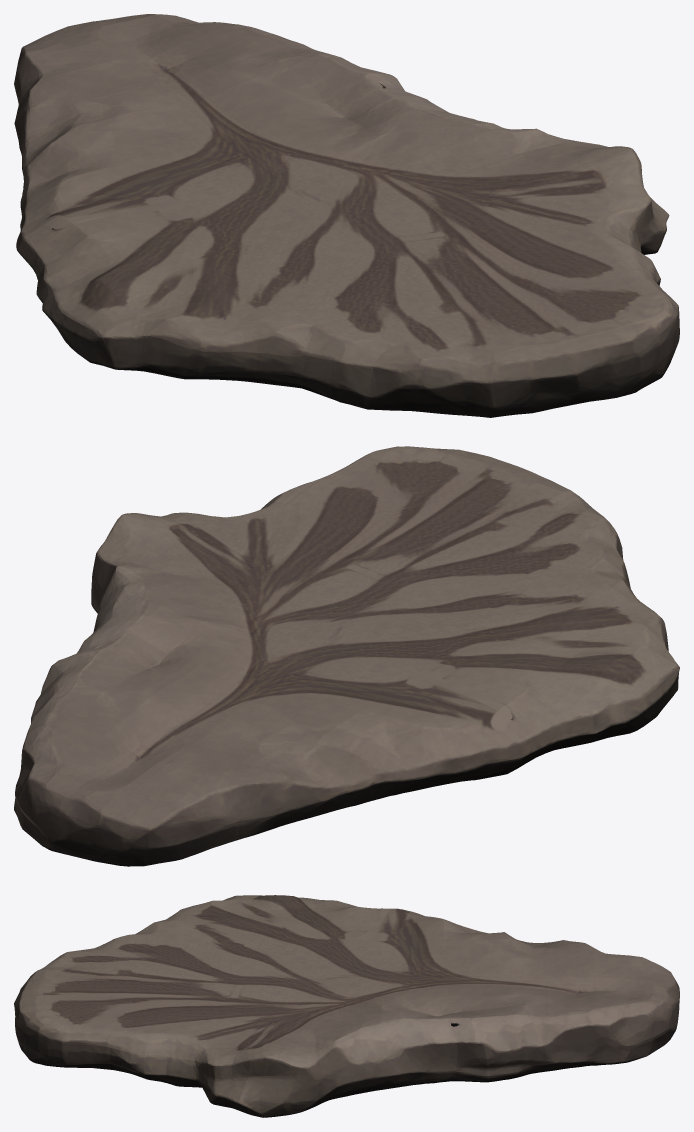
The picture shows the model from 3 angles, top to bottom: view 1: azimuth 30°, elevation 25°; view 2: azimuth 150°, elevation 25°; view 3: azimuth 270°, elevation 25°; orthographic projection. The views are drawn at different scales.
Visible parts, largest first — view 1: world; view 2: world; view 3: world.
Part boxes in pixels (box(x1,y1,x2,y2)): world: box(14, 14, 679, 417); world: box(14, 446, 679, 866); world: box(14, 895, 679, 1117).
Size of the model in its own units: 0.1075 by 0.0148 by 0.1541.
2 materials, 2 textured.
